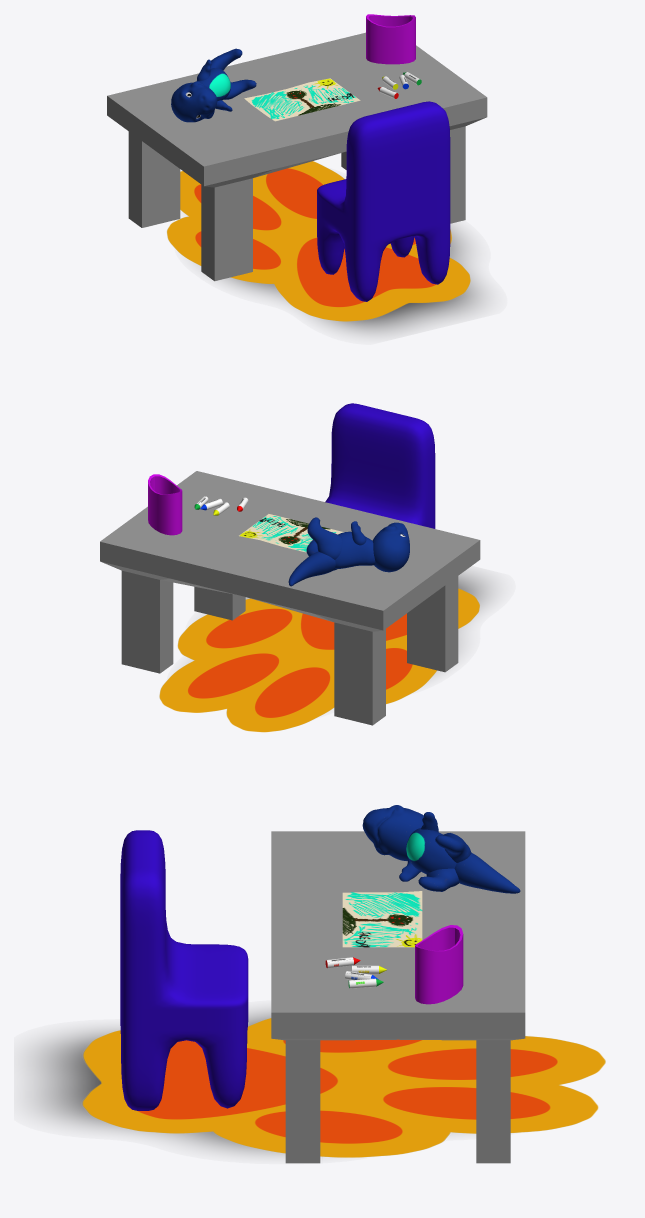
The model's file is KidsTableSet.glb.
The picture shows the model from 3 angles, top to bottom: view 1: azimuth 30°, elevation 25°; view 2: azimuth 150°, elevation 25°; view 3: azimuth 270°, elevation 25°; orthographic projection. The views are drawn at different scales.
Parts seen in each view (by area): view 1: Box001, Plane002, Box002, dinosaur, Plane001, Cylinder007; view 2: Box001, Plane002, Box002, dinosaur, Cylinder007, Plane001; view 3: Box001, Plane002, Box002, dinosaur, Plane001, Cylinder007.
Part boxes in pixels (x1,y1,x2,y2): Box001: [107, 32, 487, 281]; Plane002: [167, 161, 482, 333]; Box002: [317, 101, 450, 301]; dinosaur: [171, 48, 256, 122]; Plane001: [244, 78, 360, 121]; Cylinder007: [366, 14, 415, 64]; Box001: [100, 471, 480, 725]; Plane002: [159, 572, 489, 732]; Box002: [325, 403, 435, 528]; dinosaur: [288, 517, 409, 586]; Cylinder007: [148, 474, 182, 535]; Plane001: [239, 514, 343, 552]; Box001: [271, 831, 525, 1163]; Plane002: [33, 1011, 605, 1157]; Box002: [120, 830, 248, 1110]; dinosaur: [362, 805, 520, 893]; Plane001: [342, 891, 422, 947]; Cylinder007: [415, 925, 463, 1004].
Size of the model in its own units: 264 by 119 by 281.
14 materials, 7 textured.
